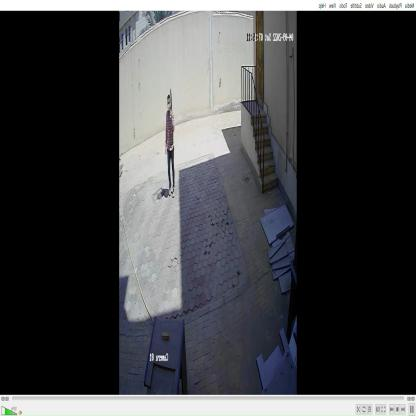handgun: (169, 84, 176, 127)
